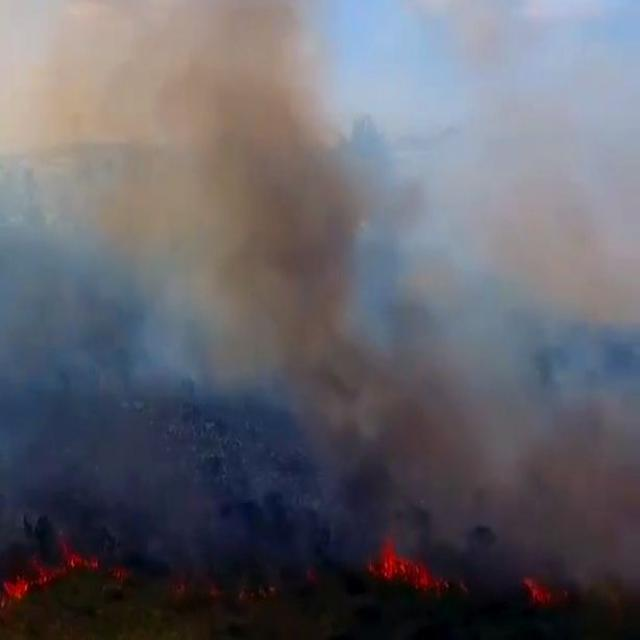Fire: (338, 517, 439, 591), (17, 564, 78, 609)
Smoke: (86, 25, 539, 539)
